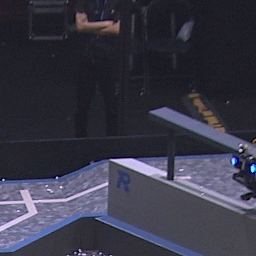Blue: (230, 155, 256, 175)
Robot: (230, 143, 256, 206)
